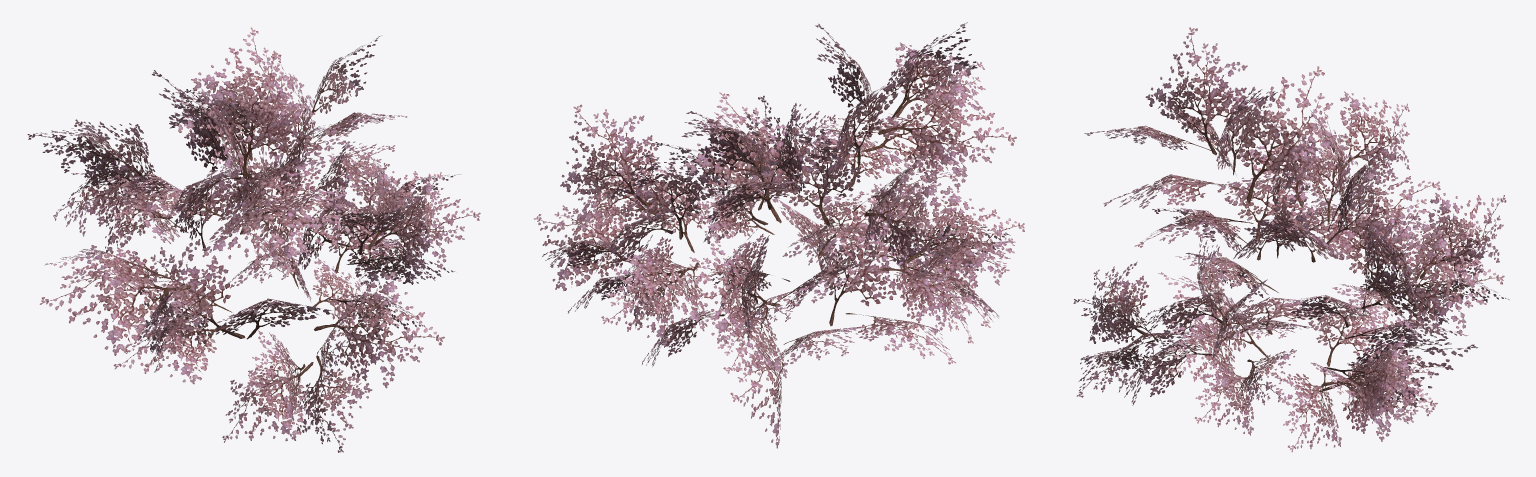
The model's file is Yland1_yz_15 Yland1.FBX.
3 views of the same model, side by side, from view 1: azimuth 30°, elevation 25°; view 2: azimuth 150°, elevation 25°; view 3: azimuth 270°, elevation 25° (orthographic). The views are drawn at different scales.
Visible parts, largest first — view 1: Yland1_yz_15 Yland1; view 2: Yland1_yz_15 Yland1; view 3: Yland1_yz_15 Yland1.
Part boxes in pixels (<box>): Yland1_yz_15 Yland1: <box>27,27,480,452</box>; Yland1_yz_15 Yland1: <box>534,22,1024,448</box>; Yland1_yz_15 Yland1: <box>1073,27,1509,452</box>.
Bounding box in the file's own units: 10.3 × 7.93 × 8.93.
